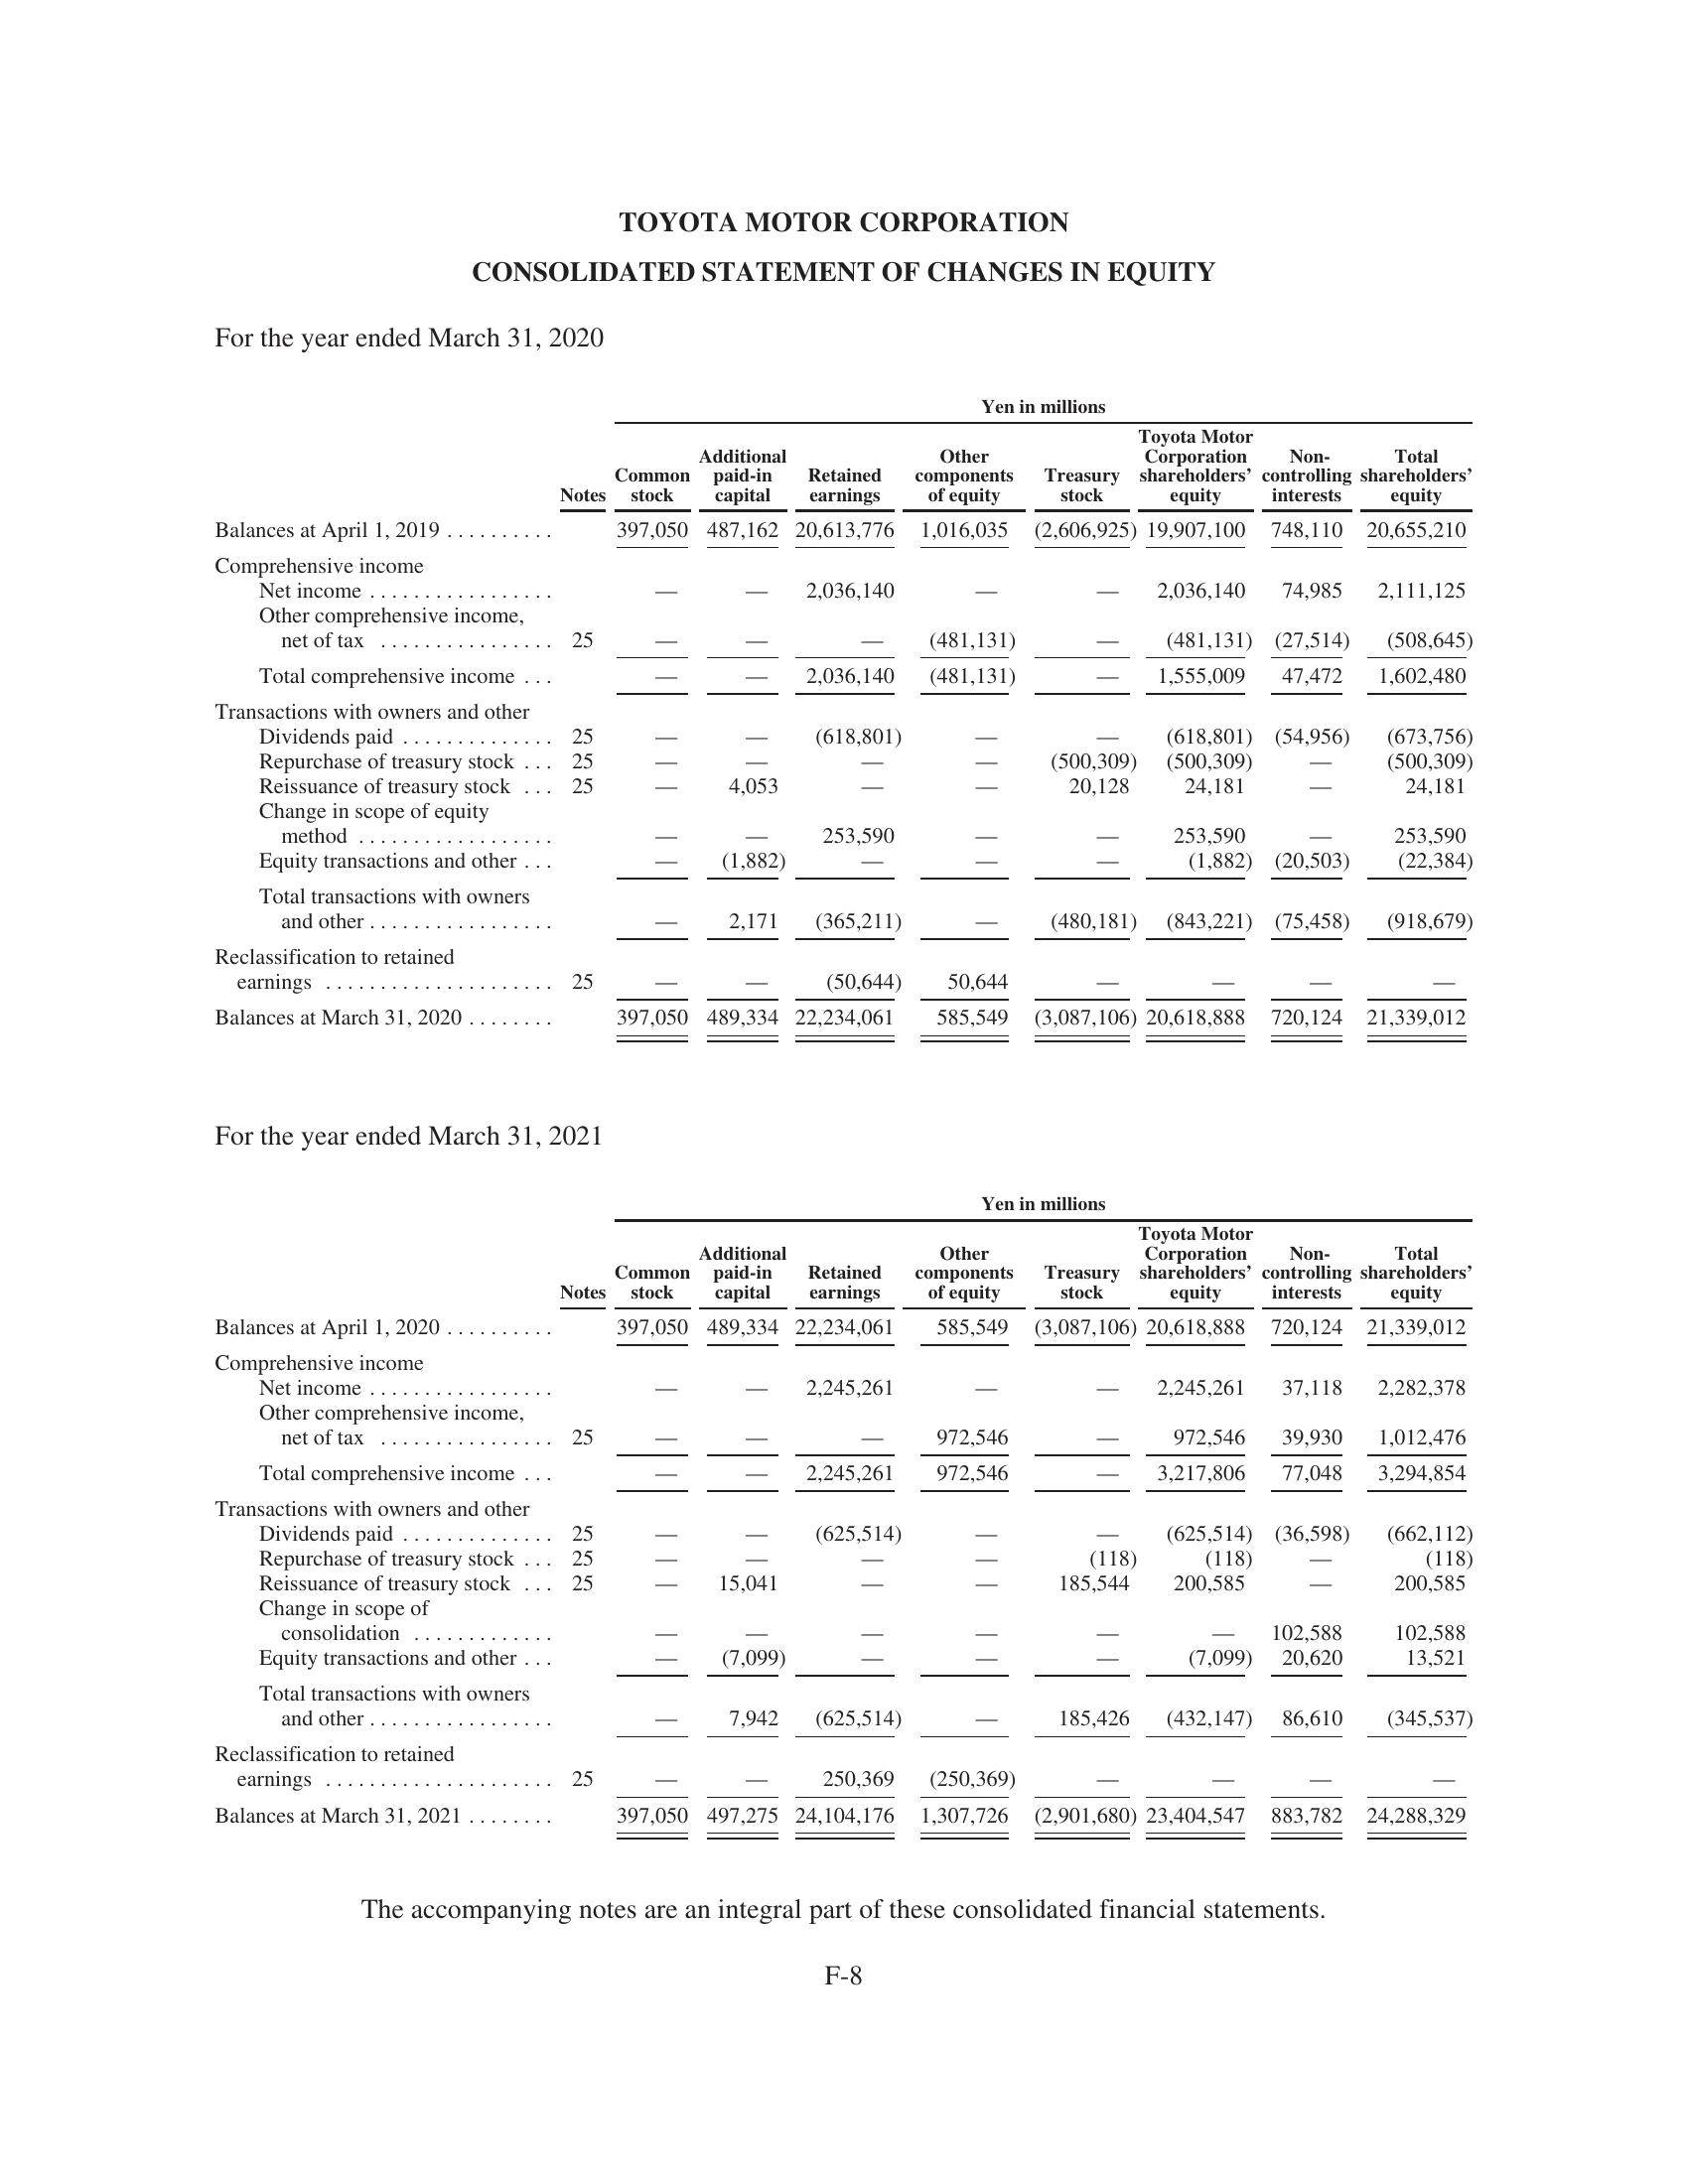Footer: (0, 1954, 1688, 2184)
Header: (0, 0, 1688, 179)
Table: (170, 1166, 1518, 1851), (167, 370, 1495, 1064)
